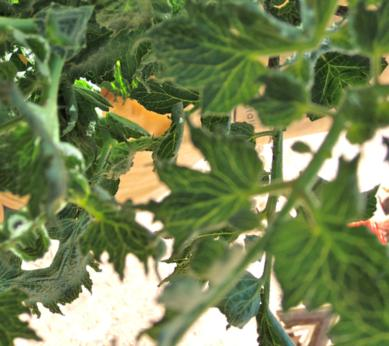Tomato leaf mosaic virus: (231, 141, 389, 330), (141, 120, 290, 266), (135, 0, 287, 136), (65, 186, 169, 296), (110, 49, 208, 146), (0, 112, 73, 214), (225, 297, 298, 346)
